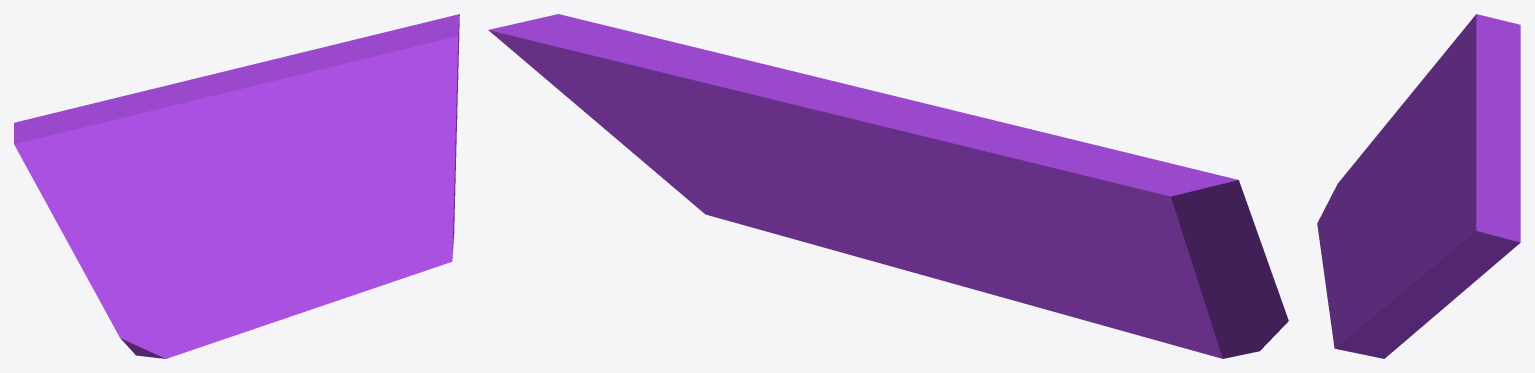
The model's file is Window_128_3_chunks.fbx.
3 renders of one model, left to right at view 1: azimuth 30°, elevation 25°; view 2: azimuth 150°, elevation 25°; view 3: azimuth 270°, elevation 25°, orthographic. The views are drawn at different scales.
Parts seen in each view (by area): view 1: Window_128_3_5, Window_128_3_1, Window_128_3_6, Window_128_3_0, Window_128_3_8, Window_128_3_4, Window_128_3_2, Window_128_3_3, Window_128_3_7, Window_128_3_9; view 2: Window_128_3_5, Window_128_3_1, Window_128_3_6, Window_128_3_2, Window_128_3_9, Window_128_3_3, Window_128_3_8, Window_128_3_4, Window_128_3_7, Window_128_3_0; view 3: Window_128_3_5, Window_128_3_6, Window_128_3_3, Window_128_3_1, Window_128_3_0, Window_128_3_8, Window_128_3_2, Window_128_3_4, Window_128_3_9, Window_128_3_7.
Boxes of the visible parts, box(x1,y1,x2,y2) form: Window_128_3_5: box(276, 14, 459, 182); Window_128_3_1: box(69, 230, 240, 358); Window_128_3_6: box(14, 109, 168, 243); Window_128_3_0: box(227, 202, 442, 333); Window_128_3_8: box(162, 70, 260, 228); Window_128_3_4: box(281, 169, 452, 264); Window_128_3_2: box(228, 59, 328, 209); Window_128_3_3: box(384, 102, 457, 253); Window_128_3_7: box(87, 182, 227, 241); Window_128_3_9: box(68, 74, 214, 126); Window_128_3_5: box(488, 14, 832, 172); Window_128_3_1: box(974, 235, 1288, 358); Window_128_3_6: box(1029, 129, 1264, 271); Window_128_3_2: box(770, 81, 985, 266); Window_128_3_9: box(862, 121, 1092, 231); Window_128_3_3: box(570, 99, 840, 247); Window_128_3_8: box(844, 88, 1021, 238); Window_128_3_4: box(824, 210, 974, 274); Window_128_3_7: box(1004, 222, 1194, 271); Window_128_3_0: box(920, 268, 1002, 297); Window_128_3_5: box(1395, 143, 1520, 288); Window_128_3_6: box(1403, 14, 1520, 130); Window_128_3_3: box(1339, 264, 1469, 358); Window_128_3_1: box(1317, 101, 1405, 255); Window_128_3_0: box(1321, 192, 1401, 343); Window_128_3_8: box(1390, 90, 1520, 195); Window_128_3_2: box(1394, 129, 1520, 221); Window_128_3_4: box(1334, 215, 1411, 349); Window_128_3_9: box(1465, 51, 1520, 122); Window_128_3_7: box(1389, 112, 1427, 192).
Size of the model in its own units: 1070 by 382 by 403.
